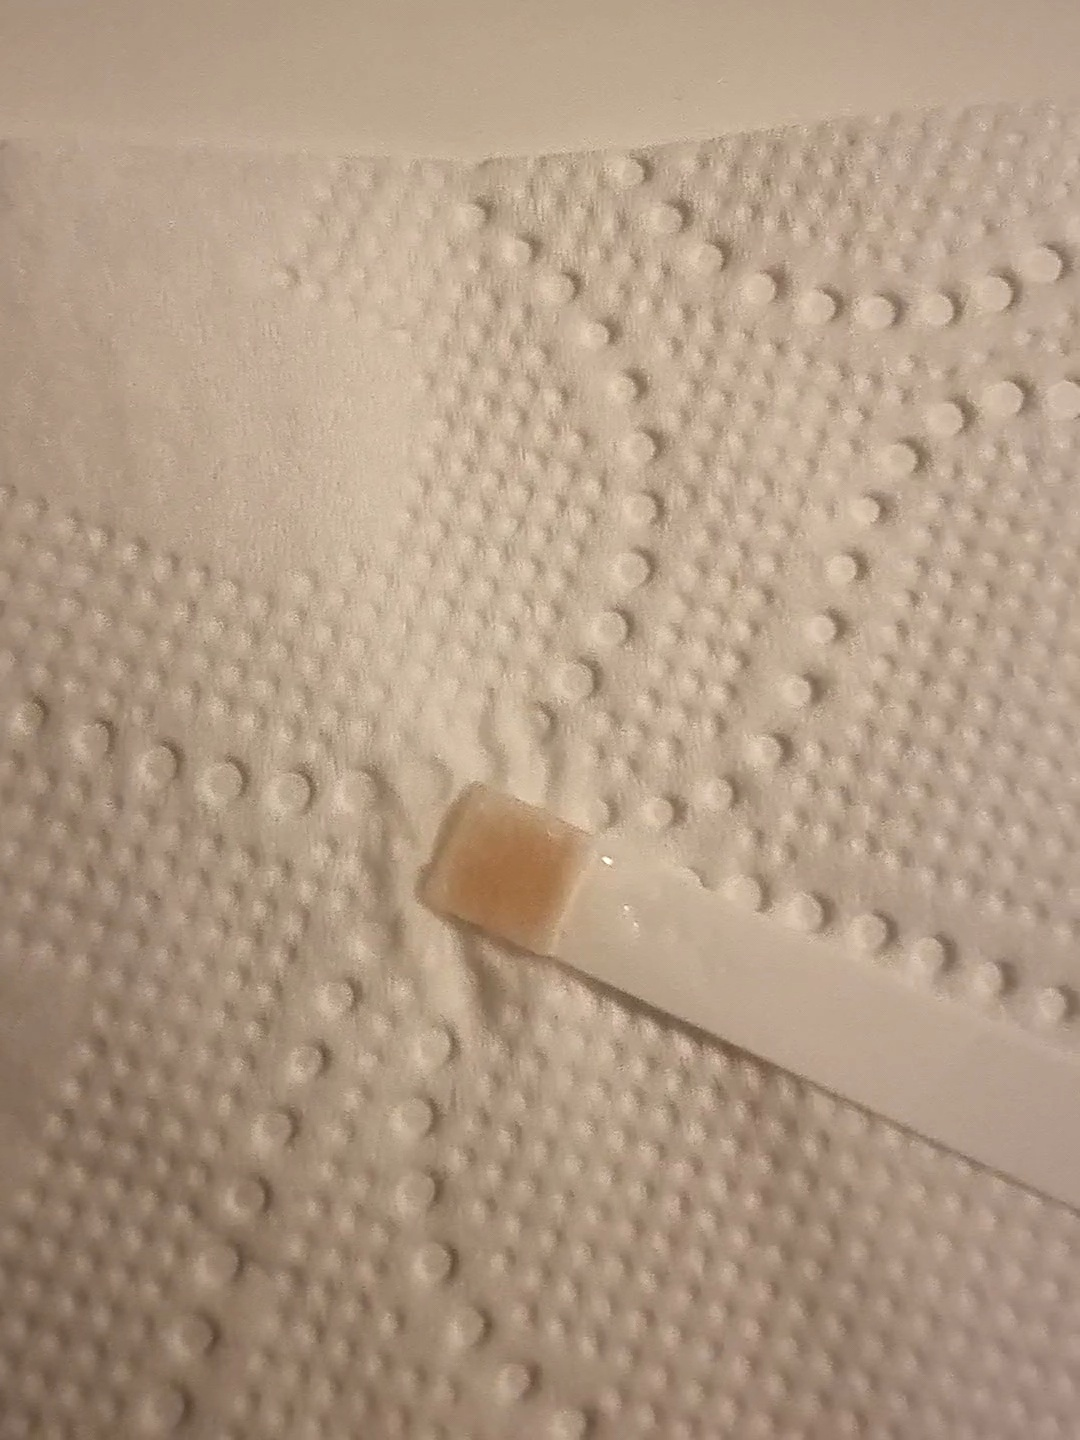keto-tip: (413, 776, 605, 963)
